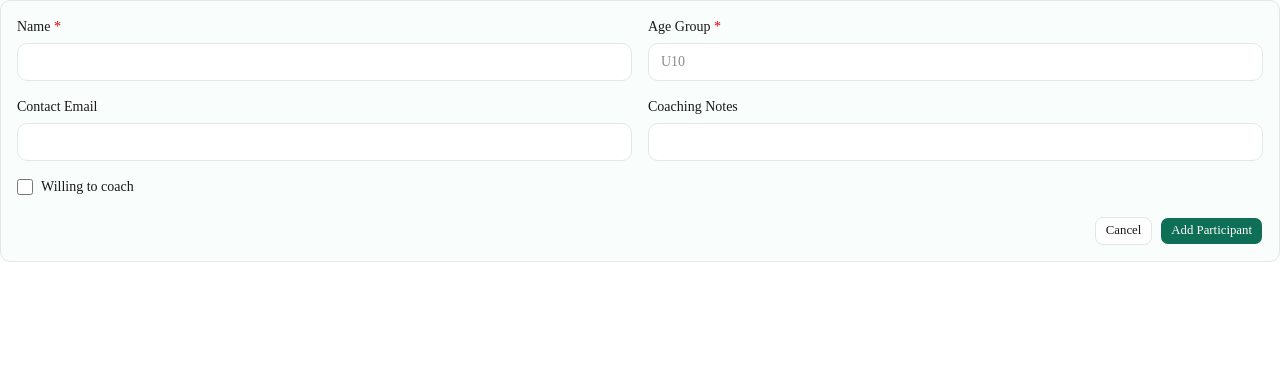
ParticipantForm › coach linked-child dropdown › hides the linked child dropdown when the coach checkbox is unchecked
The image size is (1280, 374).
Click the checkbox labelled "Willing to coach".
click(25, 187)  # box [17,179,33,195]
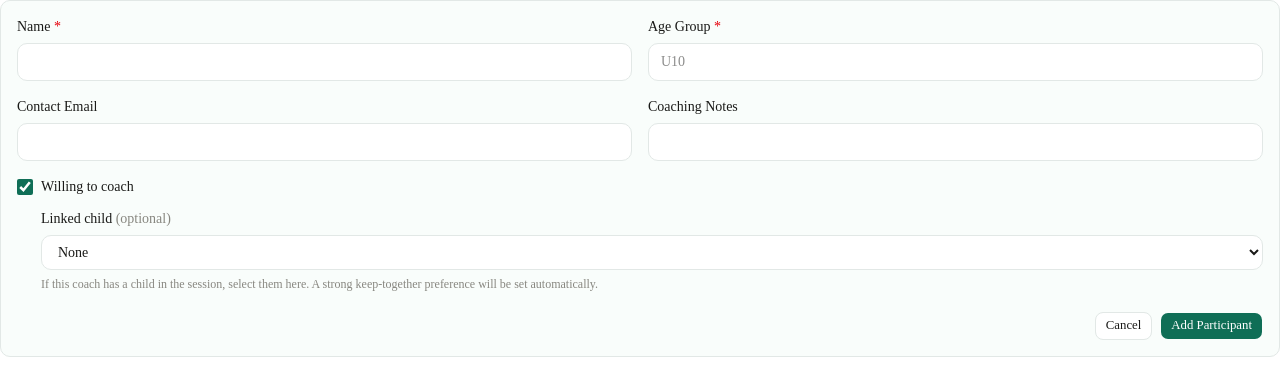
Check: the dropdown labelled "Linked child (optional)" is shown, box [41,235,1263,270]
Click the checkbox labelled "Willing to coach".
click(25, 187)  # box [17,179,33,195]
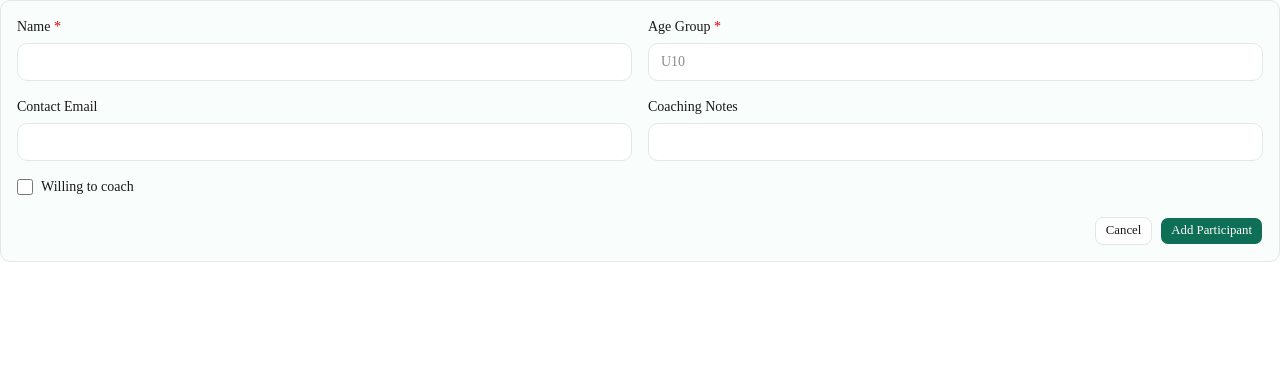
Check: the label labelled "Linked child" is gone
